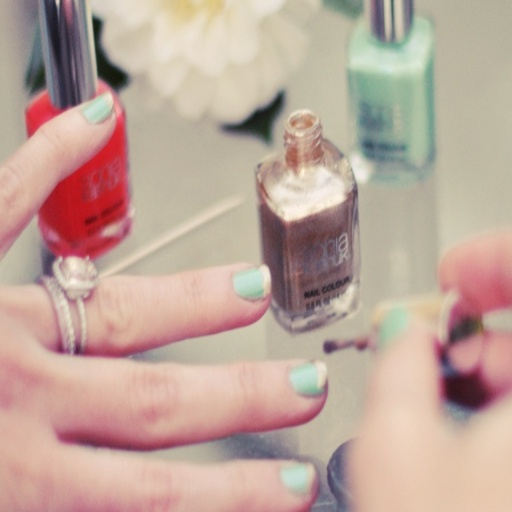hand: (0, 87, 328, 510), (344, 226, 511, 510)
